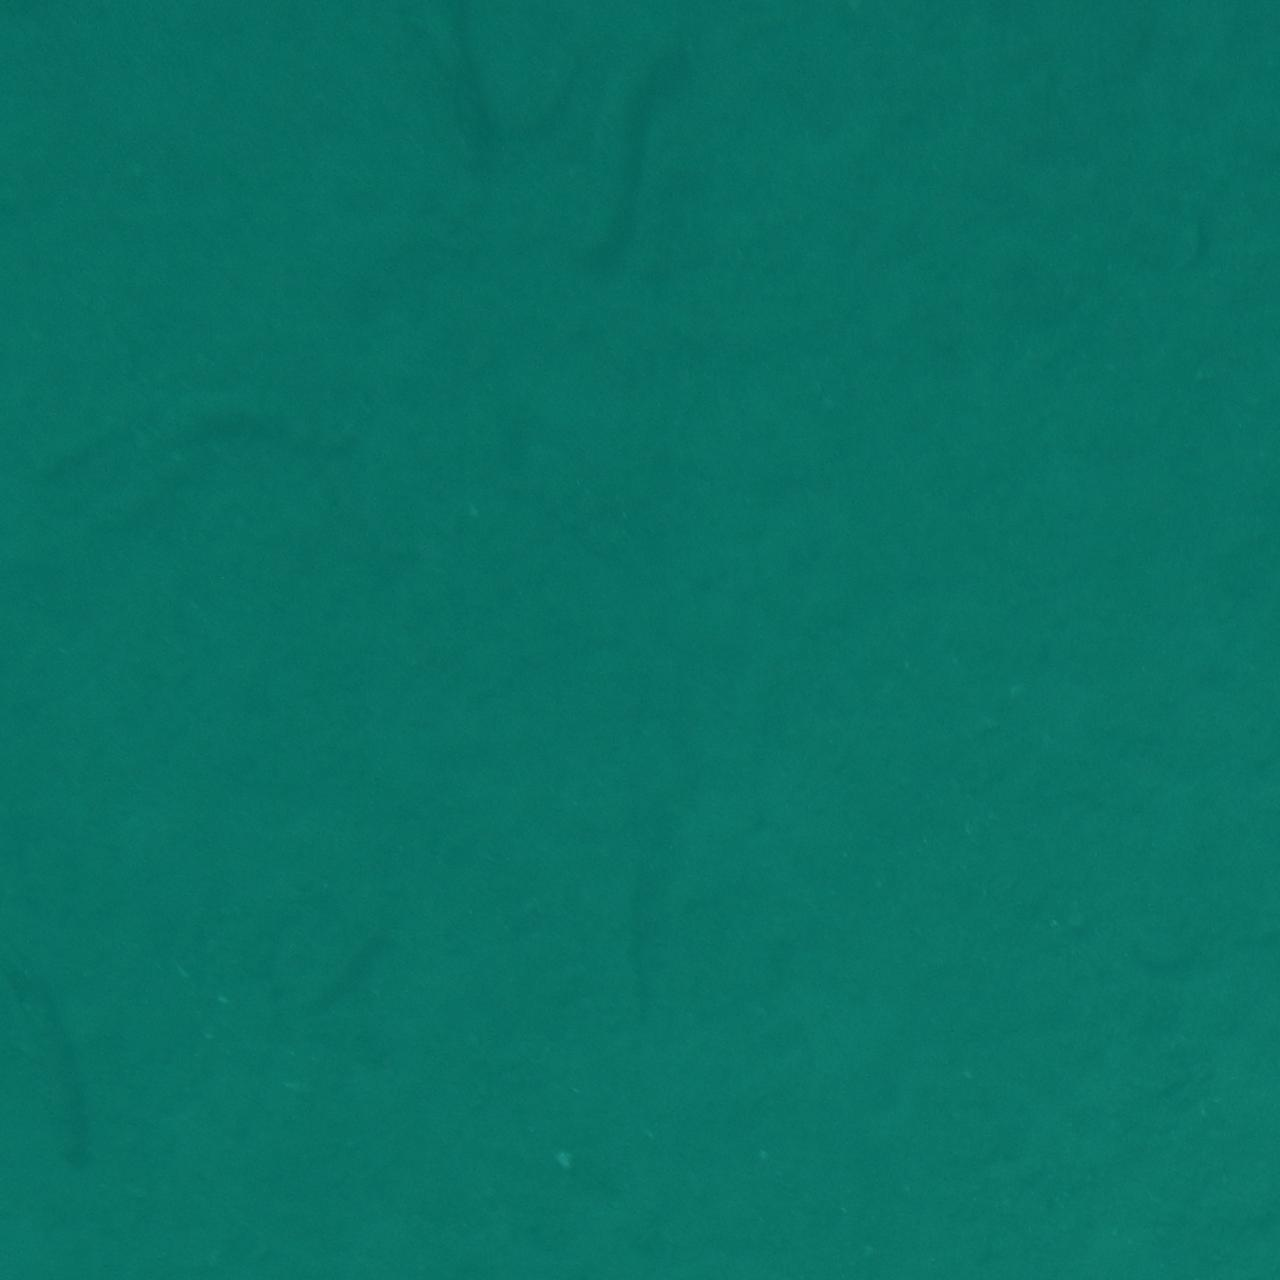Holothuria tubulosa: (588, 3, 692, 285)
